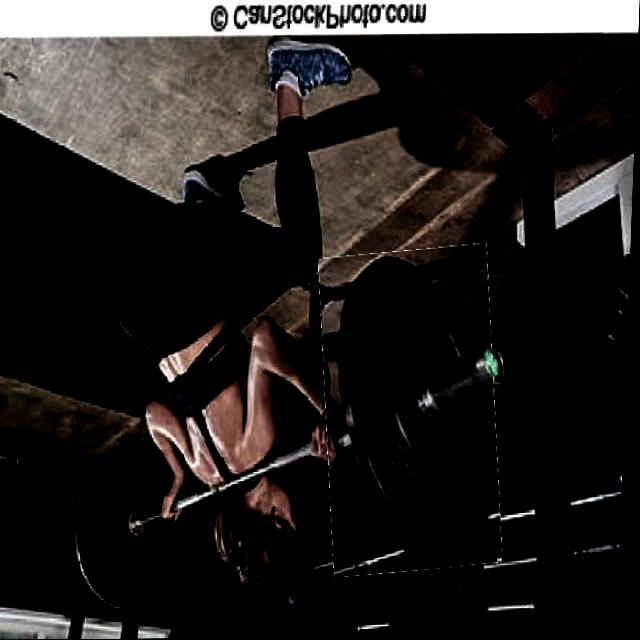barbell: (320, 247, 510, 575)
